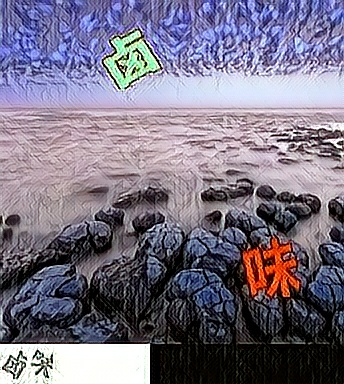C2B1: (100, 26, 164, 92)
CEB6: (240, 236, 304, 302)
